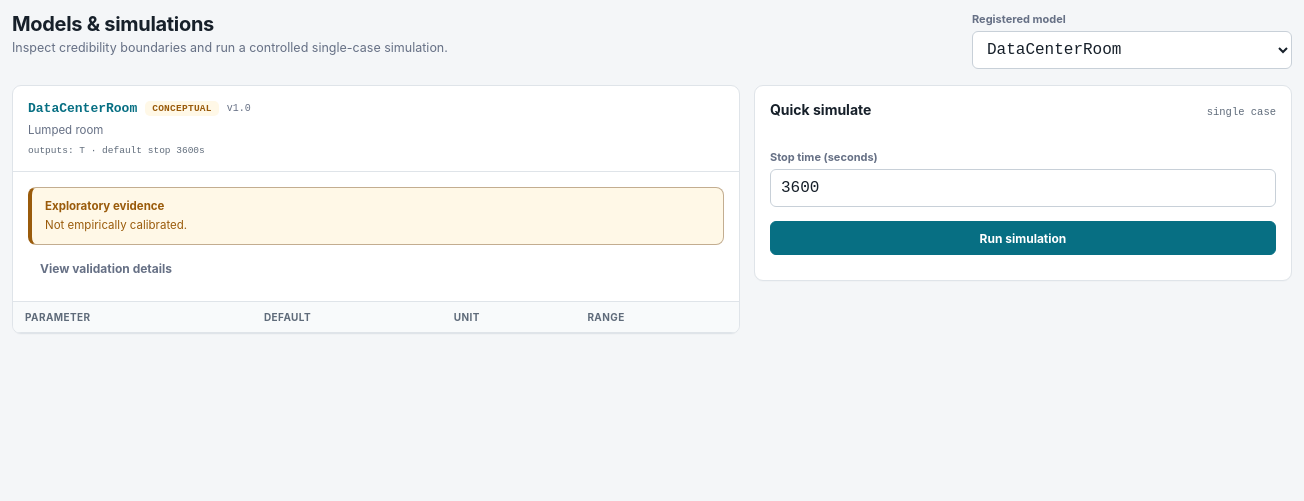
Scenario: Models › keeps conceptual status and reference-case validation visible
Expected: the text "conceptual" is shown, [145, 101, 219, 116]
Expected: the text "Not empirically calibrated." is shown, [45, 218, 187, 232]
Step 1. Click the button "View validation details" → [106, 269], box [28, 252, 184, 286]
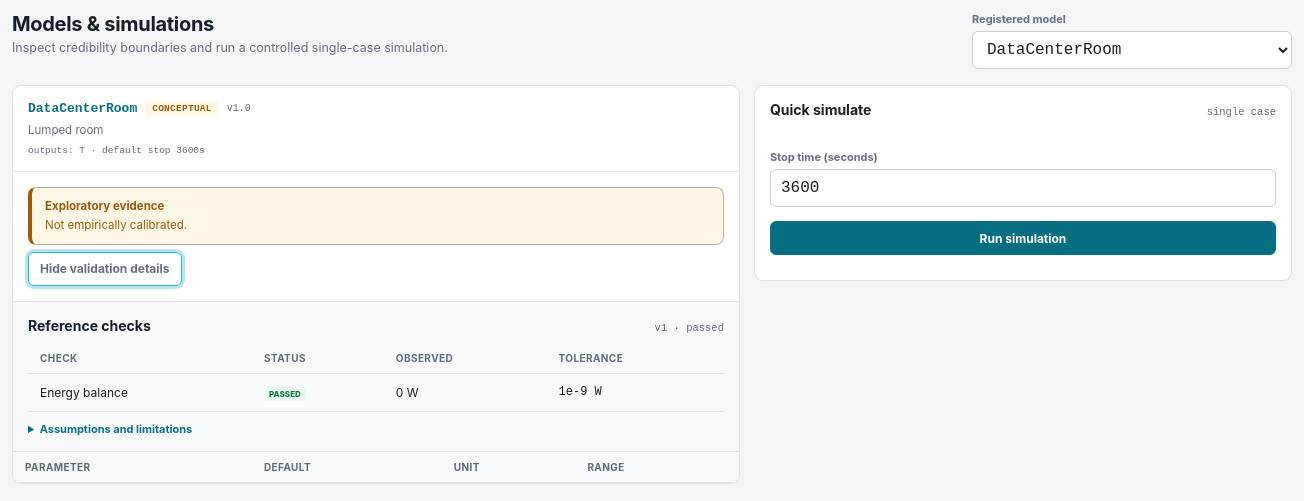
Now the text "Energy balance" is shown, box [28, 373, 252, 411]
